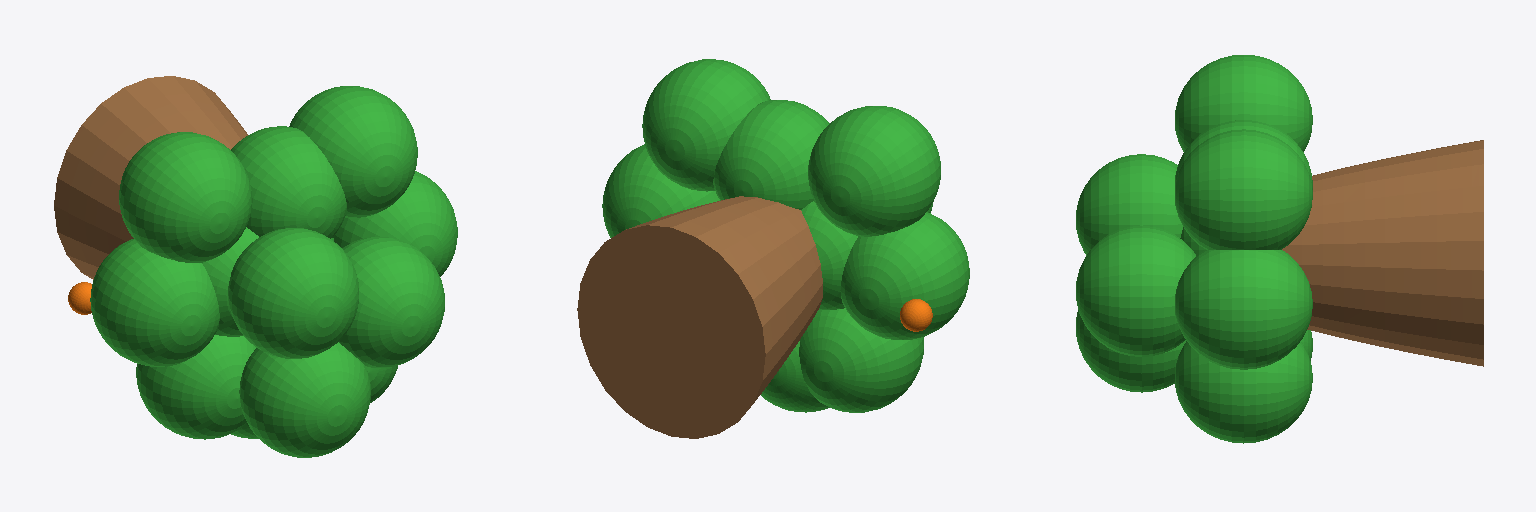
File: tinker.obj
3 renders of one model, left to right at view 1: azimuth 30°, elevation 25°; view 2: azimuth 150°, elevation 25°; view 3: azimuth 270°, elevation 25°, orthographic.
Parts seen in each view (by area): view 1: obj_0; view 2: obj_0; view 3: obj_0.
Boxes of the visible parts, x1=… form: obj_0: x1=54, y1=76, x2=457, y2=457; obj_0: x1=577, y1=59, x2=969, y2=438; obj_0: x1=1076, y1=55, x2=1483, y2=443.
Size of the model in its own units: 61 by 53 by 62.